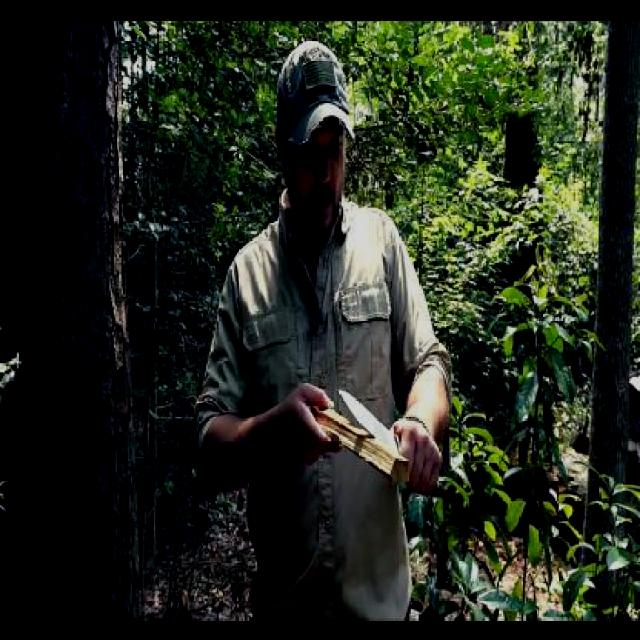knife: (334, 382, 441, 496)
